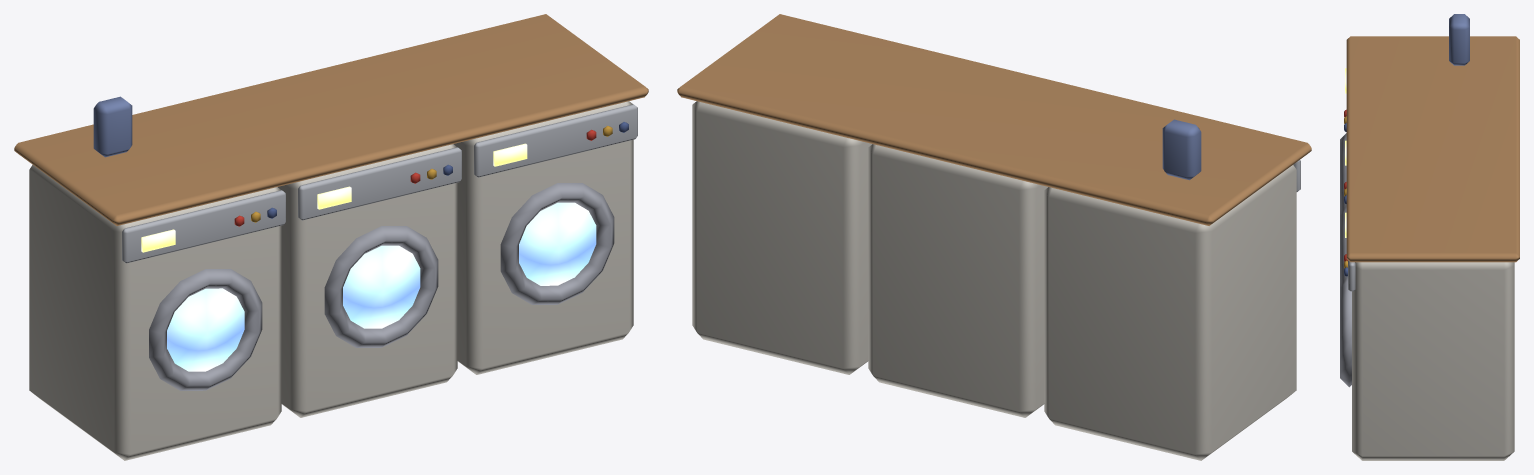
File: washer_row.glb
The picture shows the model from 3 angles, left to right: view 1: azimuth 30°, elevation 25°; view 2: azimuth 150°, elevation 25°; view 3: azimuth 270°, elevation 25°; orthographic projection. The views are drawn at different scales.
Parts seen in each view (by area): view 1: washer_row, door_3, door_2, door_1; view 2: washer_row; view 3: washer_row, door_3, door_2, door_1.
Boxes of the visible parts, x1,y1,x2,y2 form: washer_row: (14, 14, 648, 460); door_3: (500, 183, 614, 304); door_2: (324, 226, 438, 347); door_1: (149, 269, 262, 390); washer_row: (677, 14, 1311, 460); washer_row: (1344, 14, 1519, 460); door_3: (1340, 276, 1351, 387); door_2: (1340, 205, 1346, 283); door_1: (1340, 133, 1346, 210).
Size of the model in its own units: 1.98 by 1.08 by 0.685.
